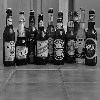beer: (16, 16, 36, 69)
